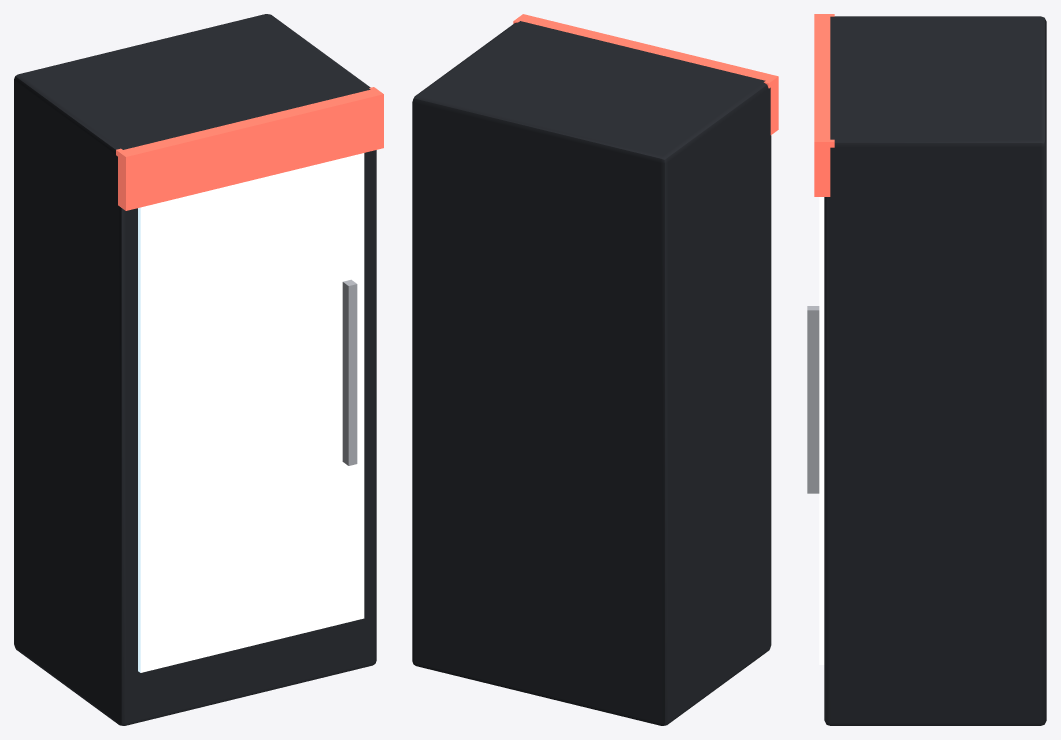
The model's file is drinks-fridge.glb.
3 views of the same model, side by side, from view 1: azimuth 30°, elevation 25°; view 2: azimuth 150°, elevation 25°; view 3: azimuth 270°, elevation 25° (orthographic). The views are drawn at different scales.
Visible parts, largest first — view 1: part-fridge, part-clear-fridge, part-fridge-header, part-chrome; view 2: part-fridge, part-fridge-header; view 3: part-fridge, part-fridge-header, part-clear-fridge, part-chrome.
Boxes of the visible parts, x1,y1,x2,y2 form: part-fridge: [14, 14, 376, 725]; part-clear-fridge: [138, 153, 364, 672]; part-fridge-header: [116, 87, 383, 210]; part-chrome: [342, 279, 357, 465]; part-fridge: [412, 21, 771, 725]; part-fridge-header: [513, 14, 778, 134]; part-fridge: [824, 16, 1046, 725]; part-fridge-header: [814, 14, 834, 196]; part-clear-fridge: [819, 197, 824, 664]; part-chrome: [807, 306, 819, 493].
Size of the model in its own units: 30 by 64 by 23.7.
